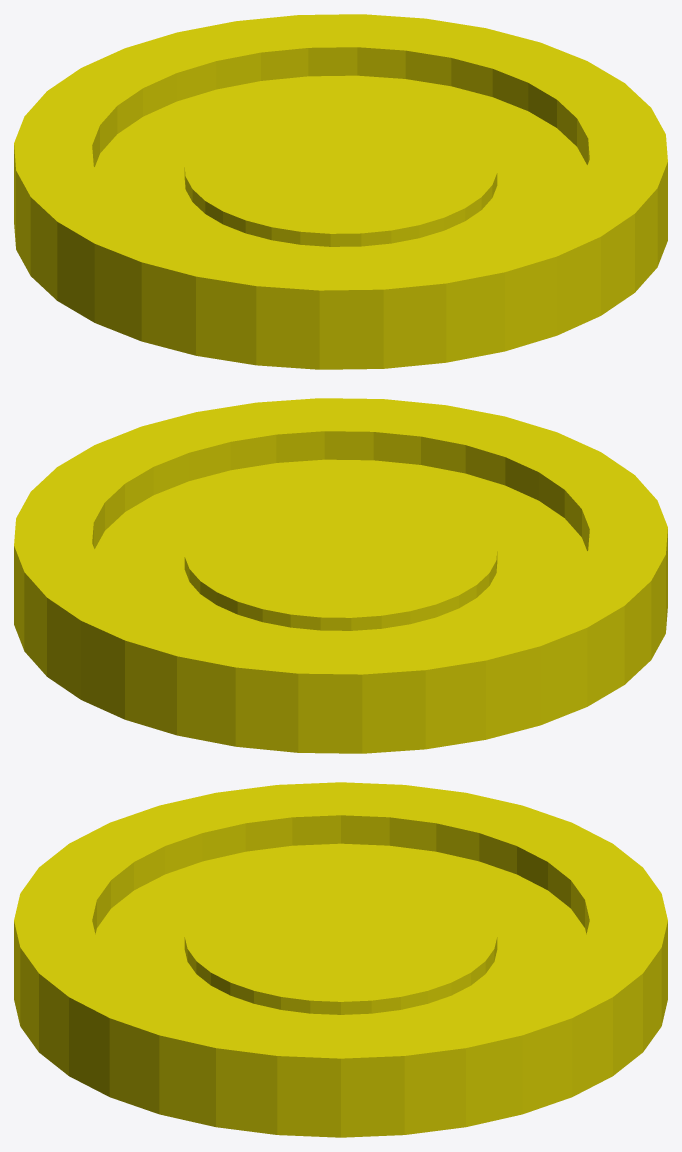
The model's file is Coin.fbx.
3 views of the same model, one above another, from view 1: azimuth 30°, elevation 25°; view 2: azimuth 150°, elevation 25°; view 3: azimuth 270°, elevation 25° (orthographic).
Visible parts, largest first — view 1: Cylinder; view 2: Cylinder; view 3: Cylinder.
Boxes of the visible parts, x1,y1,x2,y2 form: Cylinder: (14, 14, 667, 369); Cylinder: (14, 398, 667, 753); Cylinder: (14, 782, 667, 1137).
Size of the model in its own units: 200 by 26.69 by 200.
